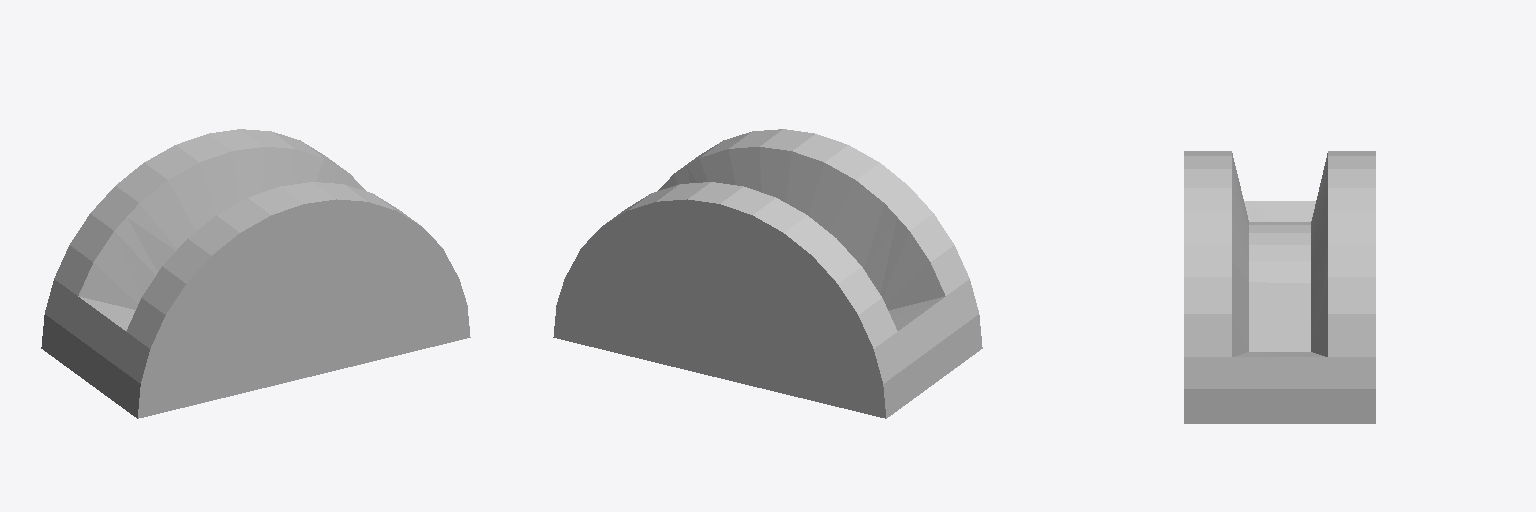
The model's file is LeverBase_02.obj.
3 views of the same model, side by side, from view 1: azimuth 30°, elevation 25°; view 2: azimuth 150°, elevation 25°; view 3: azimuth 270°, elevation 25° (orthographic).
Visible parts, largest first — view 1: Cylinder.003; view 2: Cylinder.003; view 3: Cylinder.003.
Part boxes in pixels (x1,y1,x2,y2): Cylinder.003: (41, 129, 470, 418); Cylinder.003: (553, 129, 982, 418); Cylinder.003: (1184, 151, 1375, 423).
Bounding box in the file's own units: 2 × 1 × 1.